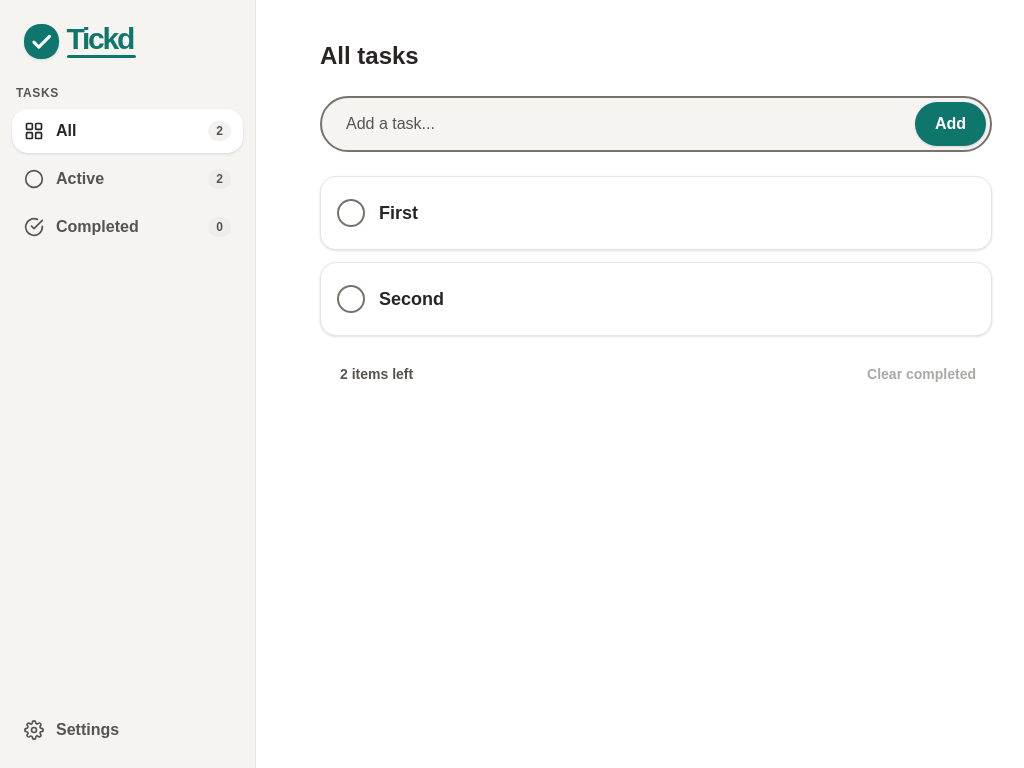
Scenario: TaskList title editing › saves the draft when another title is single-clicked during edit
The image size is (1024, 768).
Double-click the button "First" at (399, 213), box [379, 191, 929, 235]
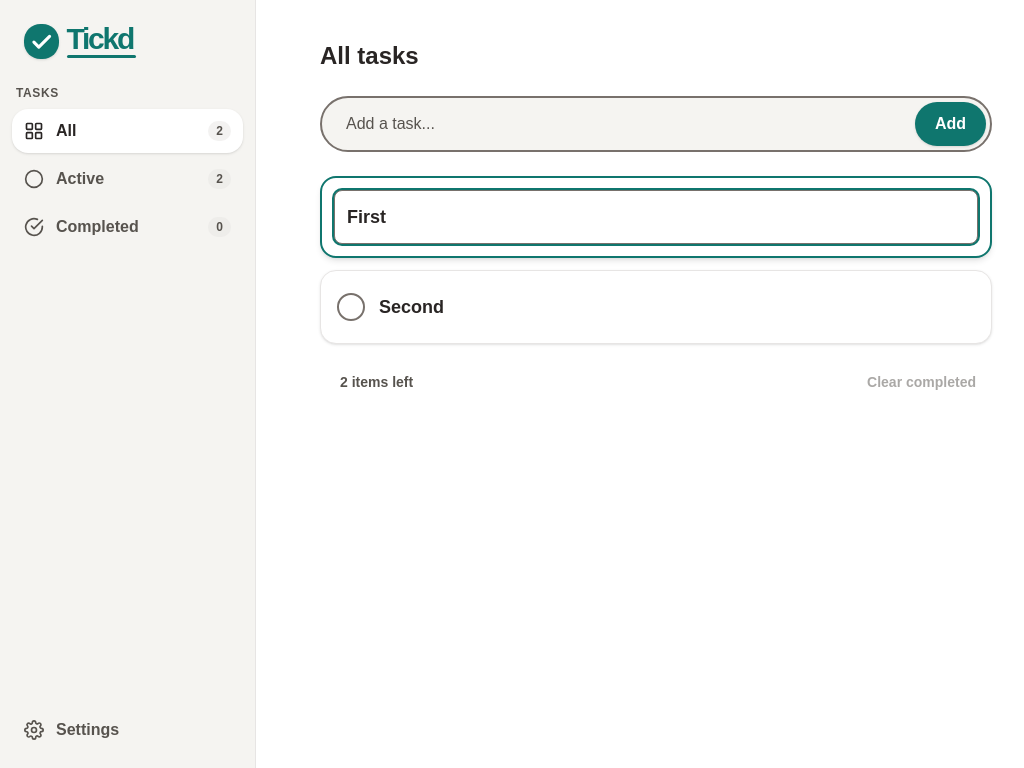
Replace the text in the field named "Edit task" with "Saved draft" at (656, 217), box [334, 190, 978, 244]
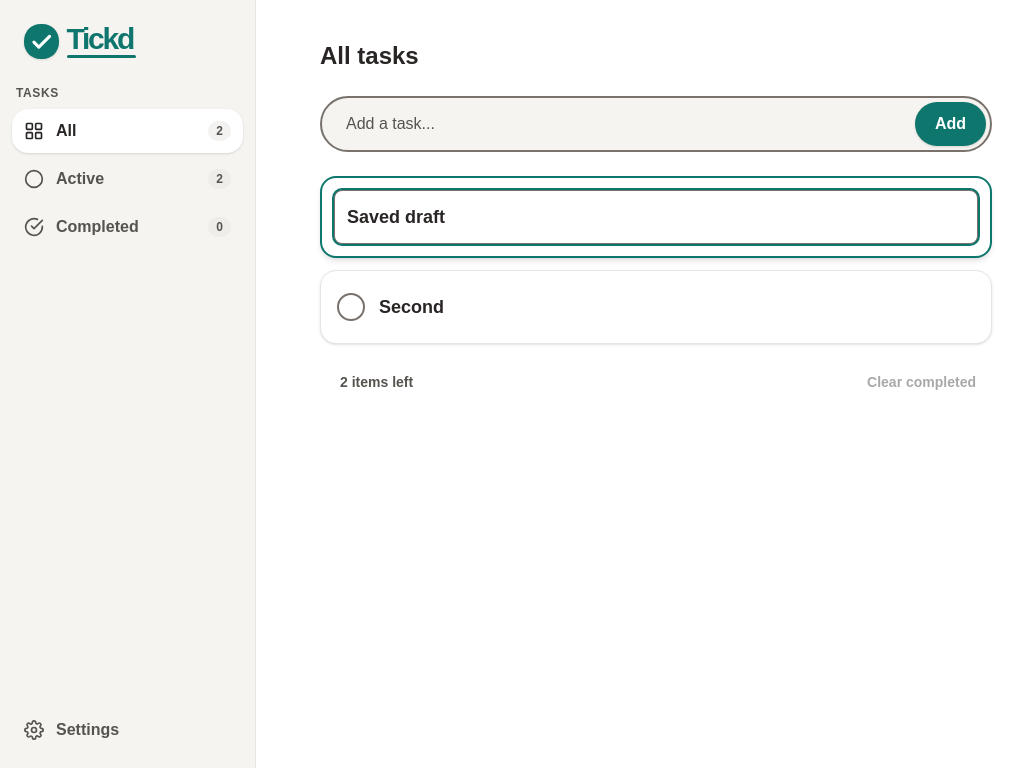
Click the button "Second" at (412, 307), box [379, 285, 929, 329]
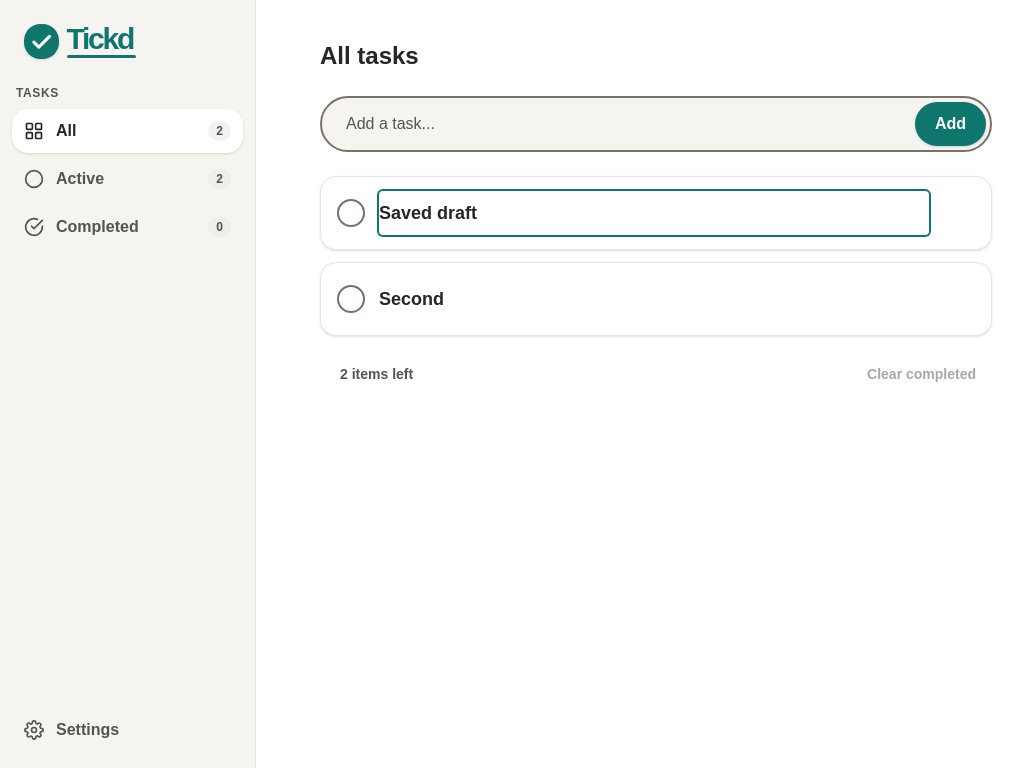
Expected: the field labelled "Edit task" is not shown
Expected: the button "Saved draft" is shown, [379, 191, 929, 235]
